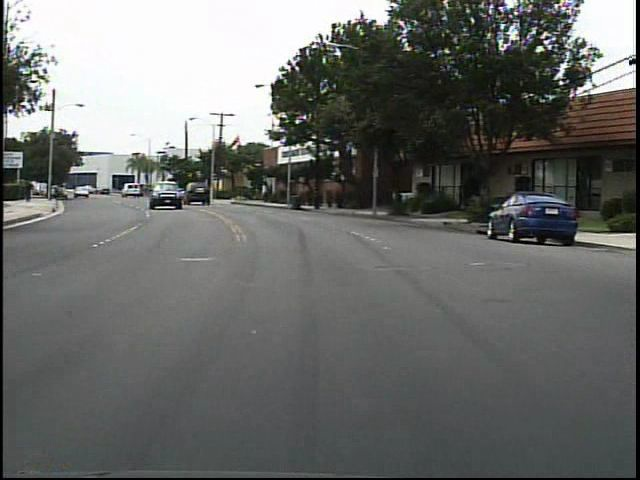person: (22, 182, 33, 204)
